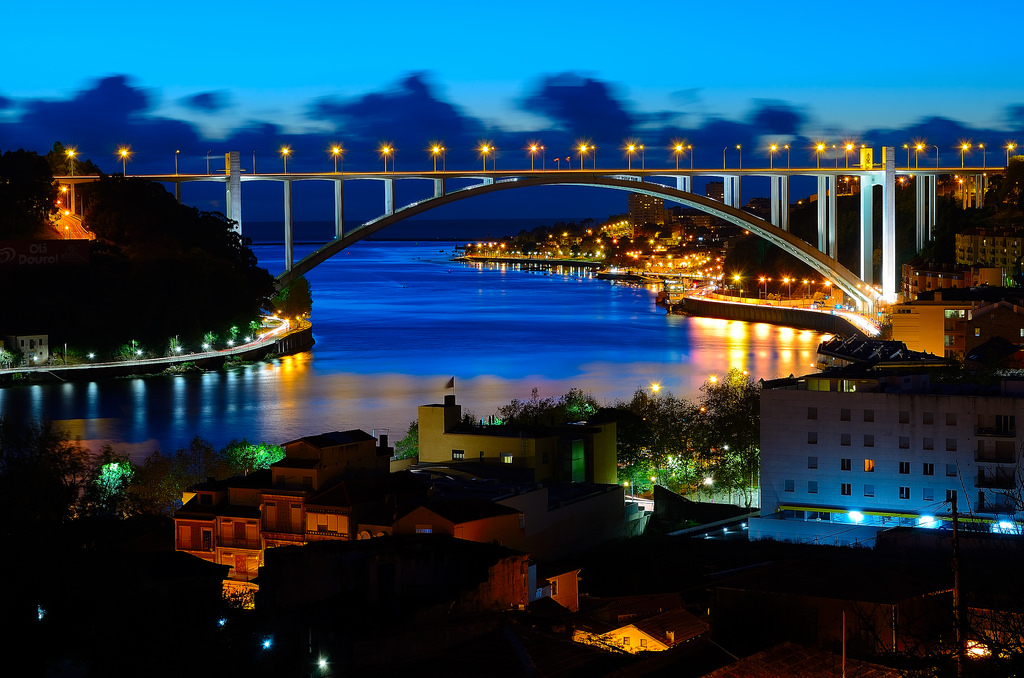arrabida: (51, 144, 1023, 330)
